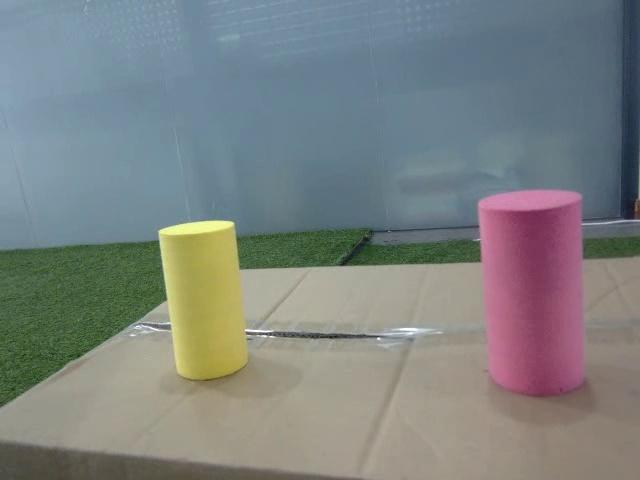red_cylinder: (479, 187, 590, 396)
yellow_cylinder: (157, 222, 248, 378)
